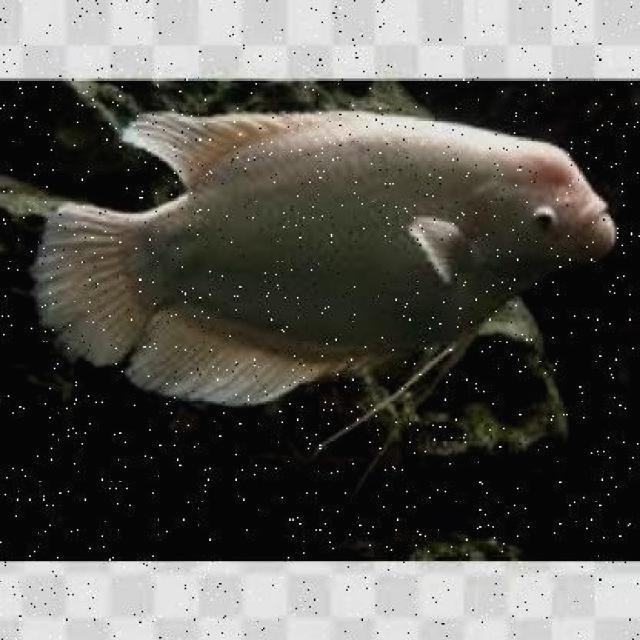gurame: (42, 113, 616, 410)
